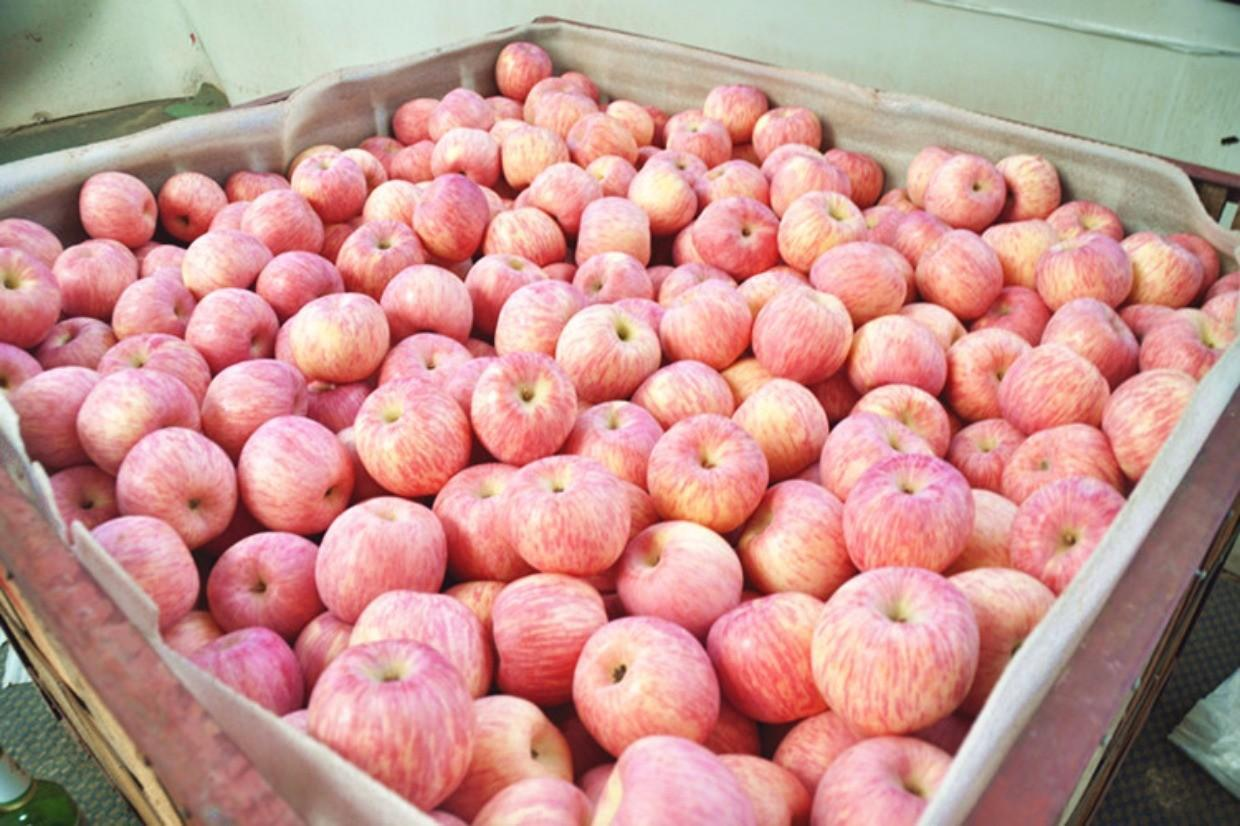apple: (813, 565, 978, 732), (308, 639, 473, 806), (576, 614, 719, 748), (702, 590, 845, 724), (832, 453, 971, 574), (314, 497, 452, 616), (497, 456, 635, 574), (608, 519, 746, 629), (494, 574, 612, 700), (238, 418, 361, 529), (354, 377, 477, 488), (644, 416, 767, 527), (110, 427, 233, 538), (87, 514, 201, 631), (1005, 477, 1129, 583), (74, 367, 197, 470), (466, 354, 580, 465), (739, 477, 846, 590), (555, 298, 661, 398), (199, 356, 315, 446), (751, 281, 849, 384), (998, 339, 1104, 432), (284, 290, 389, 382), (731, 378, 826, 472), (655, 277, 751, 366), (184, 283, 282, 362), (184, 284, 280, 364), (375, 263, 476, 339), (1037, 236, 1135, 313), (849, 315, 952, 388), (914, 226, 1002, 311), (1123, 231, 1213, 311), (693, 193, 782, 266), (571, 195, 660, 268), (776, 192, 865, 265), (922, 154, 1011, 227), (333, 218, 424, 289), (74, 169, 159, 245), (411, 170, 487, 252), (109, 272, 198, 337), (181, 229, 270, 294), (489, 35, 552, 100)
